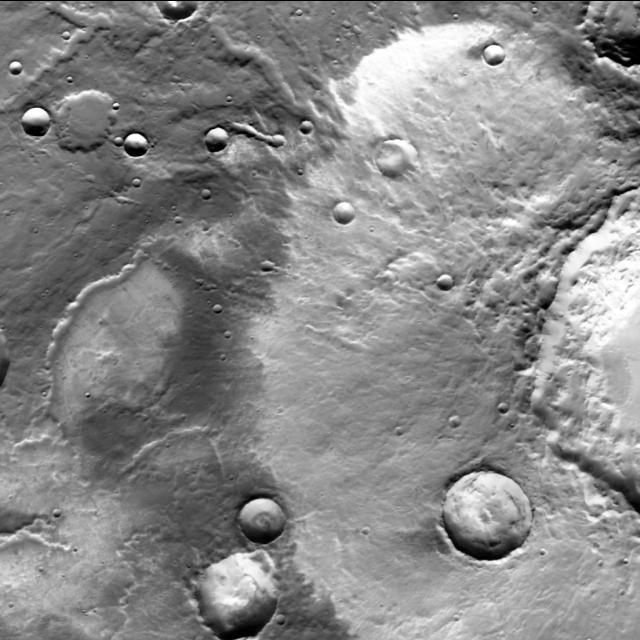crater: (40, 271, 236, 468), (117, 424, 230, 538), (441, 463, 531, 554), (195, 548, 279, 632), (54, 83, 116, 146), (238, 492, 284, 538), (376, 132, 416, 172), (23, 100, 52, 130), (205, 121, 229, 146), (125, 126, 149, 150), (332, 194, 356, 217), (485, 38, 506, 59), (437, 268, 452, 284), (300, 114, 314, 128), (10, 55, 23, 69), (272, 128, 285, 142), (260, 253, 272, 266), (450, 408, 462, 420), (200, 182, 212, 193), (498, 397, 509, 408), (246, 120, 257, 131), (276, 608, 286, 618), (360, 520, 370, 530), (324, 136, 334, 146), (116, 131, 125, 140), (51, 502, 60, 511), (412, 0, 422, 8), (212, 298, 221, 306), (202, 215, 210, 224), (174, 209, 182, 218), (343, 14, 352, 22), (369, 5, 377, 14), (88, 168, 96, 177), (134, 172, 142, 180), (63, 24, 71, 32), (625, 178, 633, 186), (267, 130, 275, 138), (258, 126, 266, 134), (230, 330, 237, 338), (355, 21, 363, 28), (402, 427, 409, 434), (120, 104, 128, 110), (306, 169, 312, 176), (212, 285, 218, 292), (304, 10, 310, 17), (234, 96, 240, 102), (74, 78, 80, 84), (547, 549, 553, 555), (593, 639, 601, 640)
